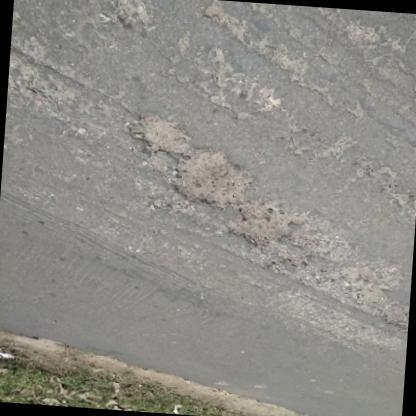pothole: (128, 111, 262, 206), (218, 194, 320, 270), (193, 44, 278, 116), (335, 258, 413, 335), (7, 20, 48, 95), (203, 2, 249, 44), (116, 0, 156, 35)
